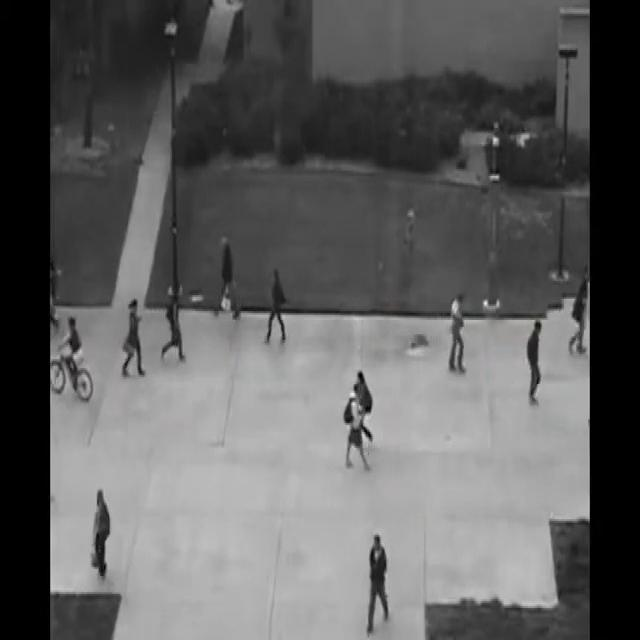anamoly: (51, 313, 103, 409)
